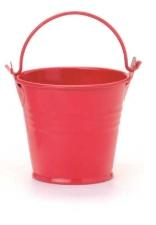SEAU: (0, 0, 148, 190)
